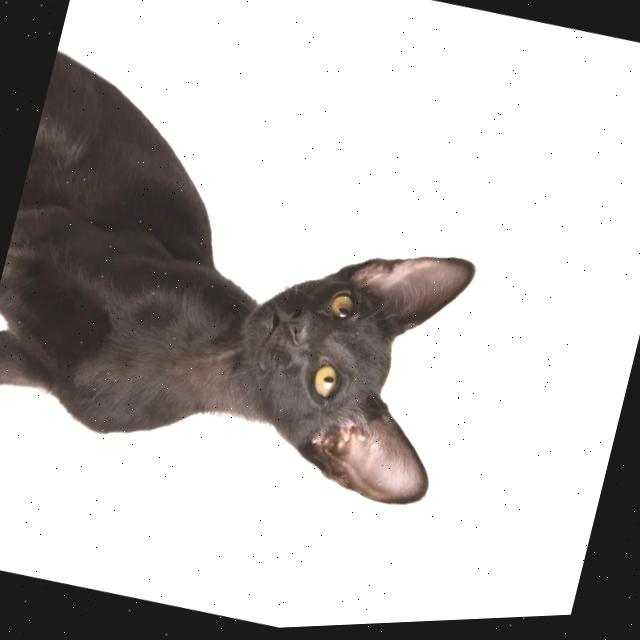Oriental: (0, 12, 521, 534)
